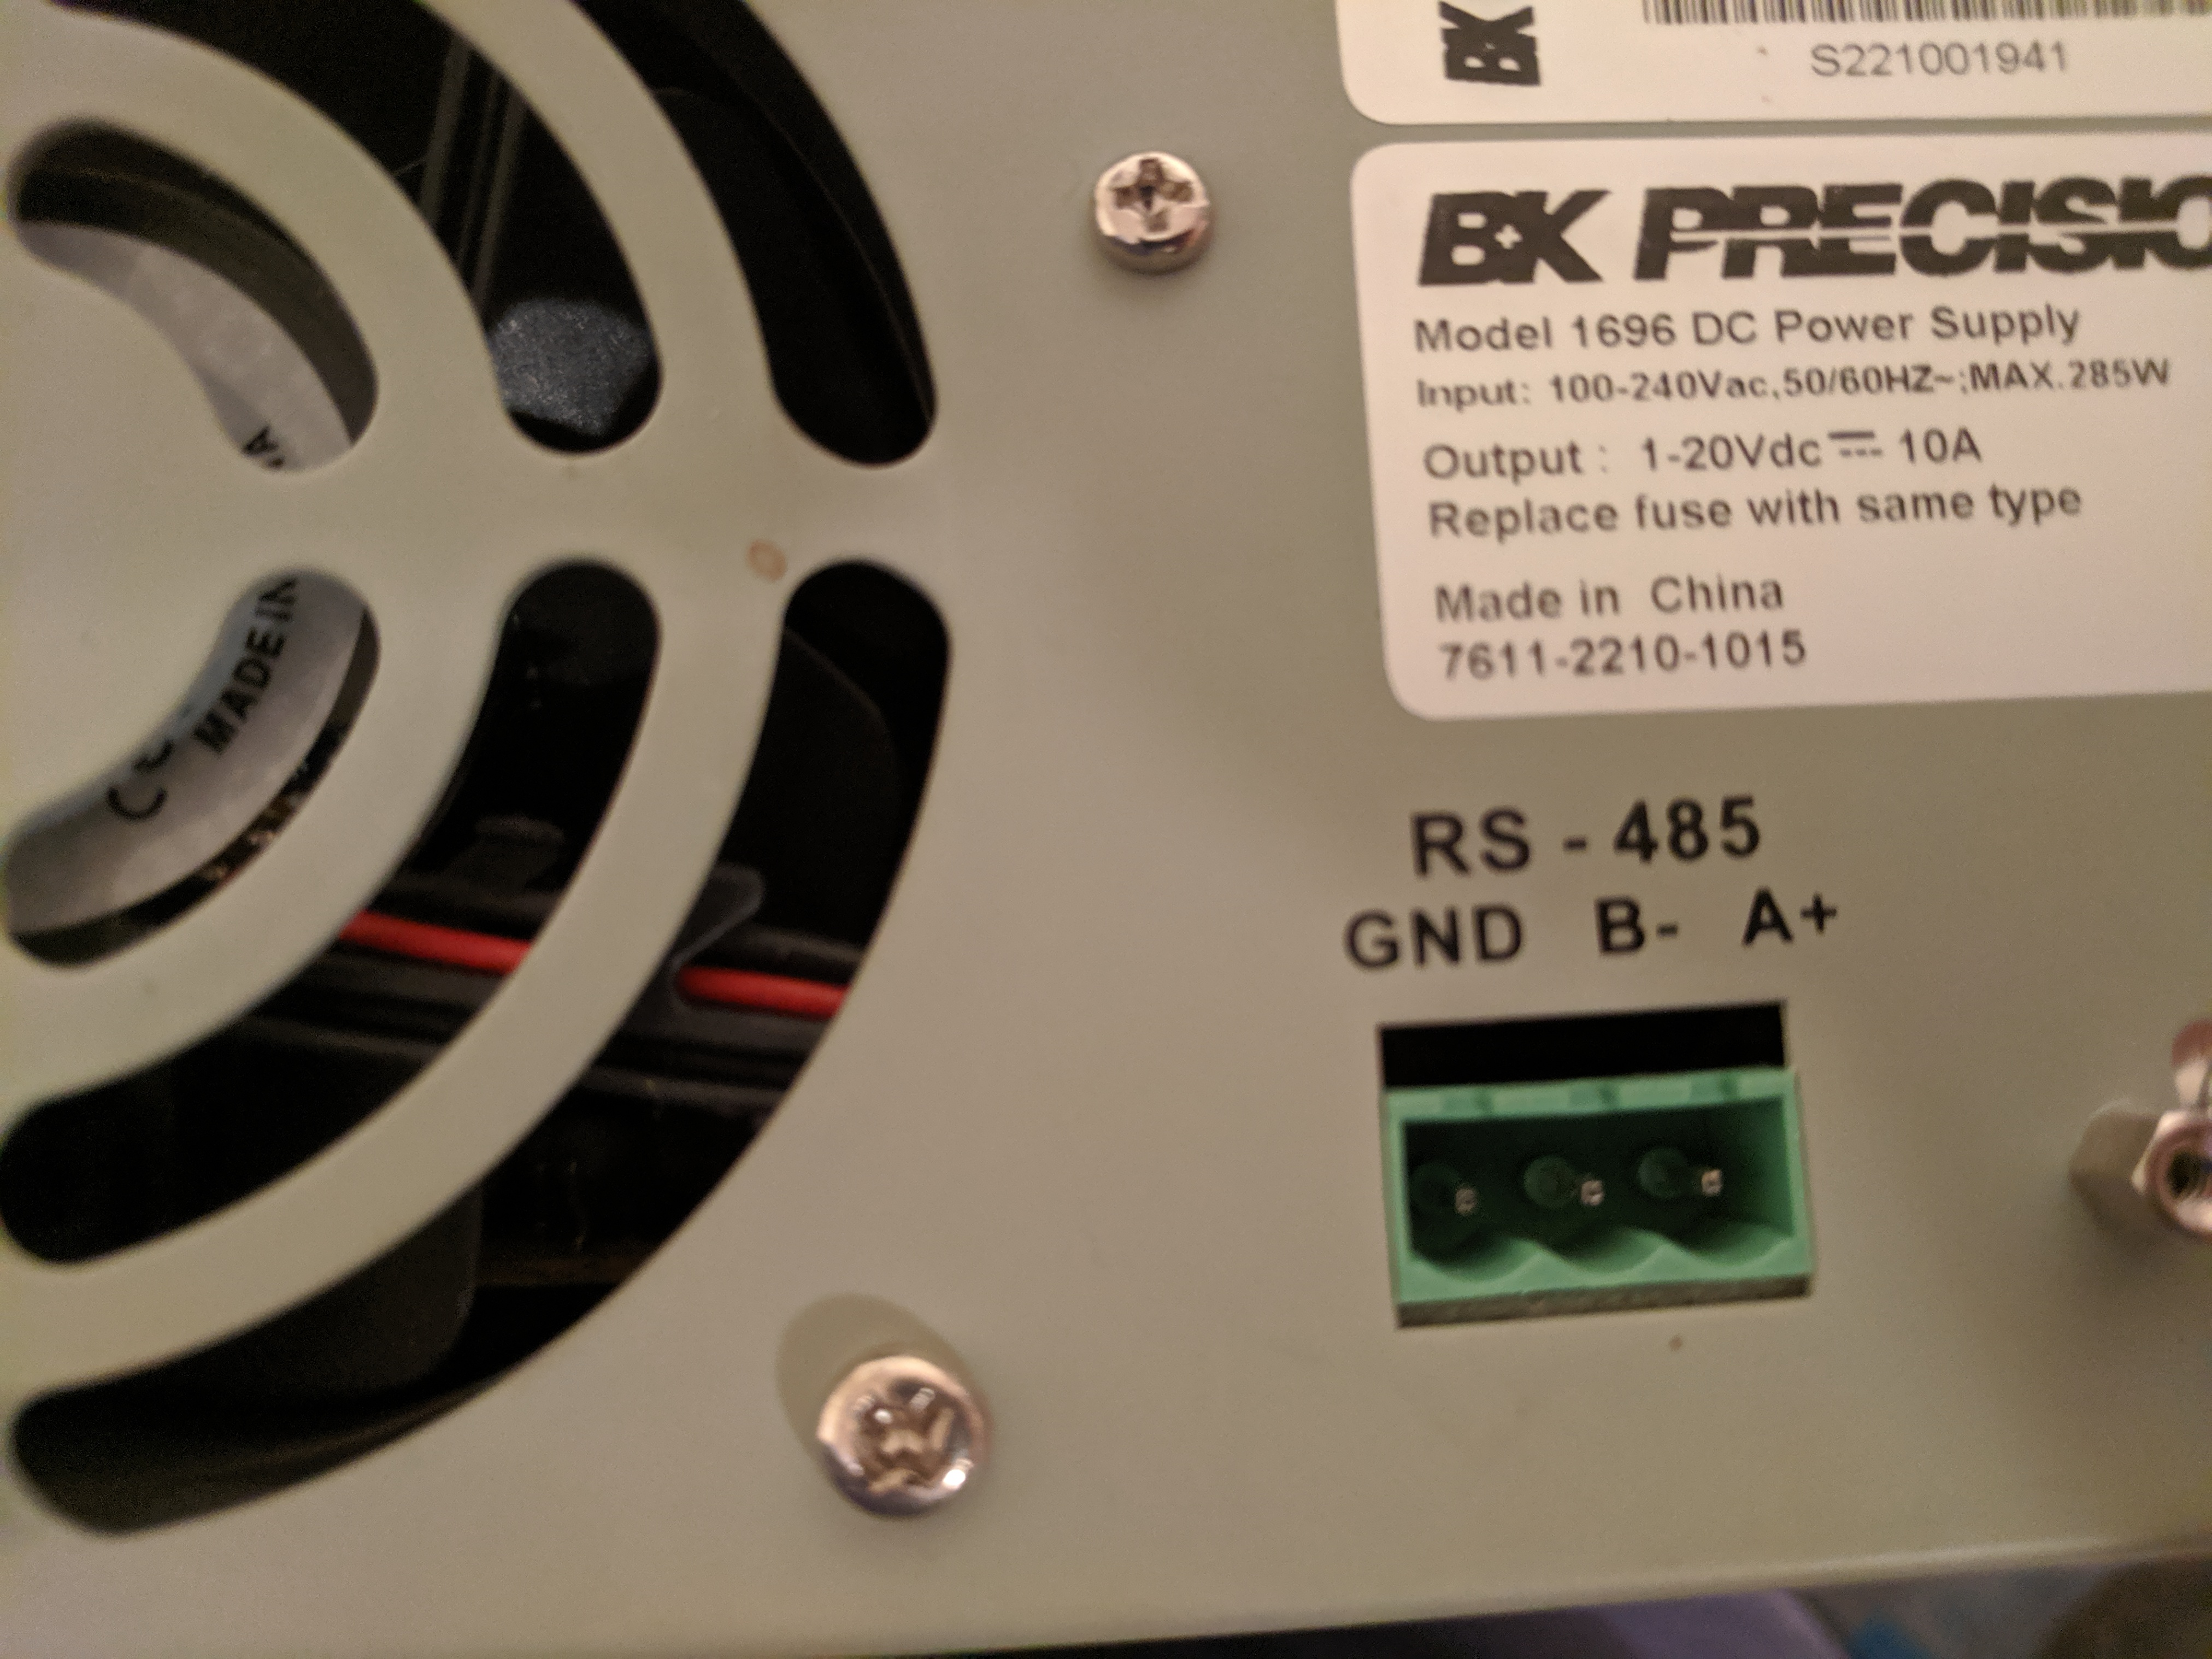cross_recessed_screw: (810, 1351, 989, 1516), (1083, 152, 1217, 263)
